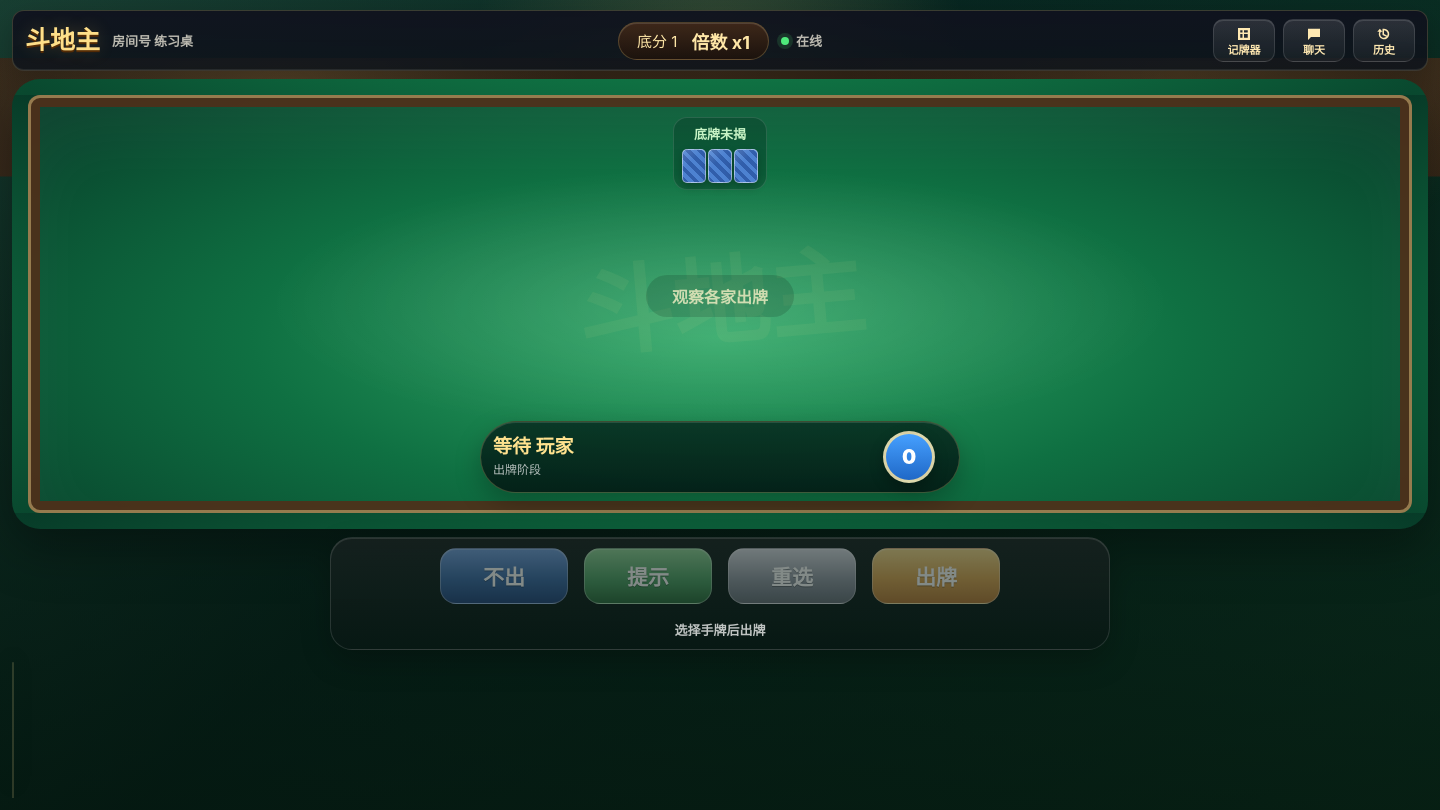
it: UtilityDrawer accessibility › keeps the closed drawer inert and exposes a labelled non-modal dialog when opened
Click the button "聊天" at [1314, 40], box [1283,19,1345,62]
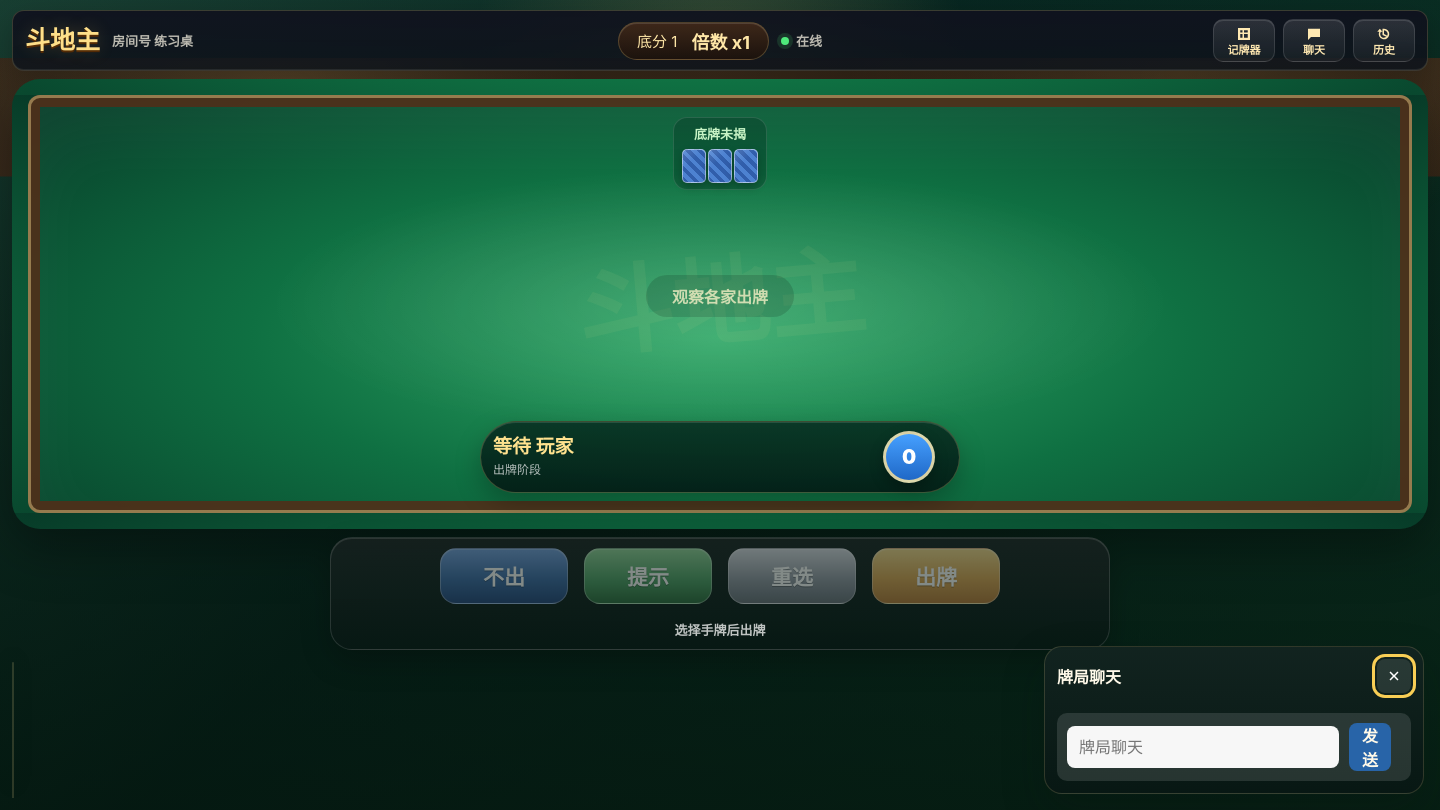
expect the field named "牌局聊天消息" is shown: met, box [1067,726,1339,768]
